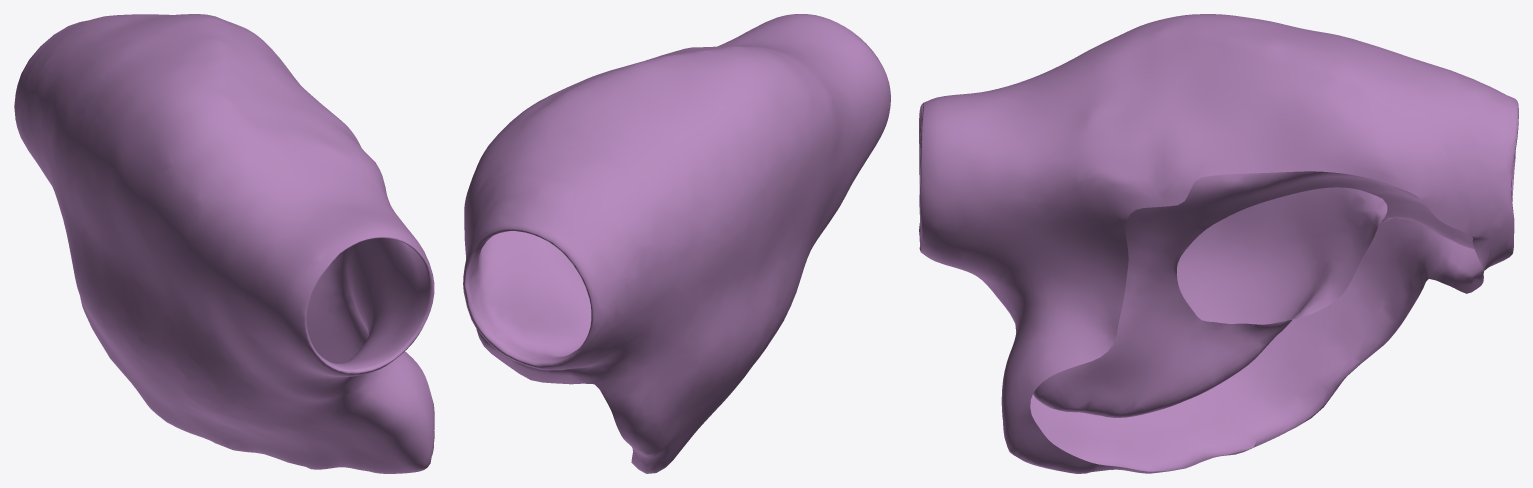
The picture shows the model from 3 angles, left to right: view 1: azimuth 30°, elevation 25°; view 2: azimuth 150°, elevation 25°; view 3: azimuth 270°, elevation 25°; orthographic projection. The views are drawn at different scales.
Parts seen in each view (by area): view 1: 右心房; view 2: 右心房; view 3: 右心房.
Part boxes in pixels (left/top/right/bottom): 右心房: left=14, top=14, right=434, bottom=473; 右心房: left=463, top=14, right=890, bottom=473; 右心房: left=919, top=14, right=1518, bottom=473.
Bounding box in the file's own units: 0.0658 × 0.1086 × 0.1453.
